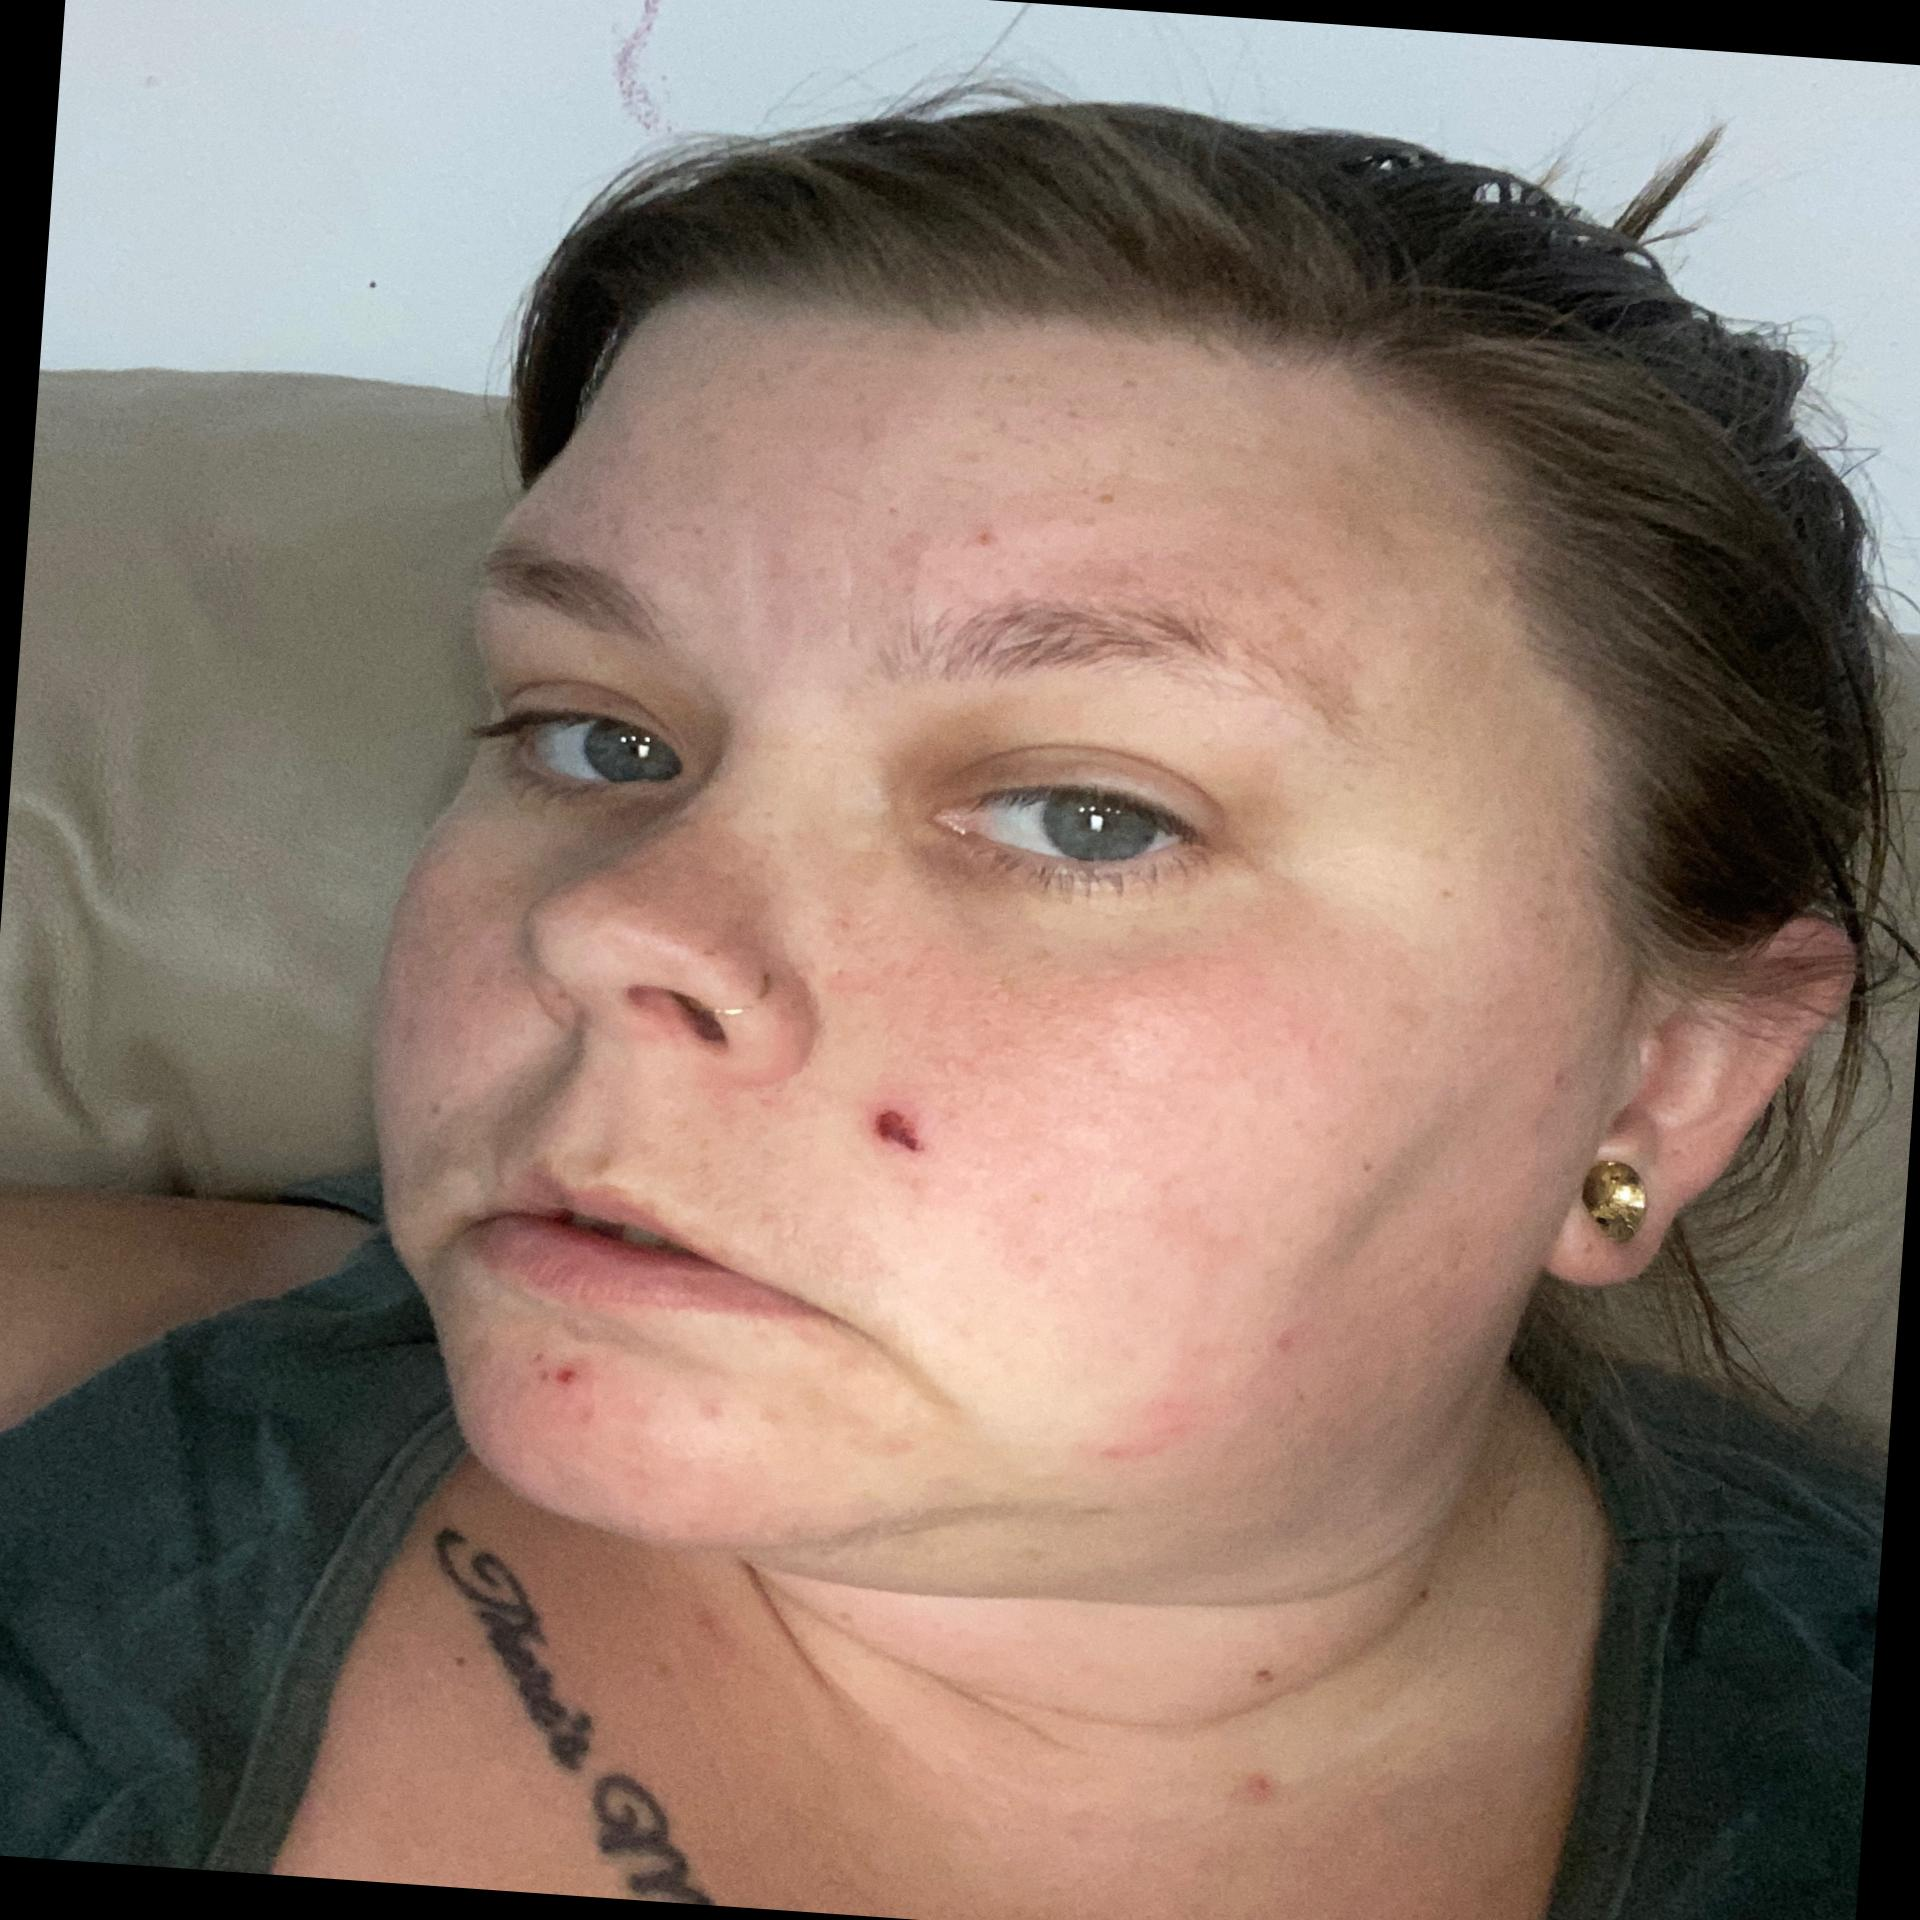Acne: (846, 1099, 965, 1182), (1081, 1421, 1197, 1491), (515, 1357, 608, 1421), (1264, 1312, 1333, 1377), (955, 513, 1041, 554)
Wrinkles: (812, 1296, 1011, 1426)
